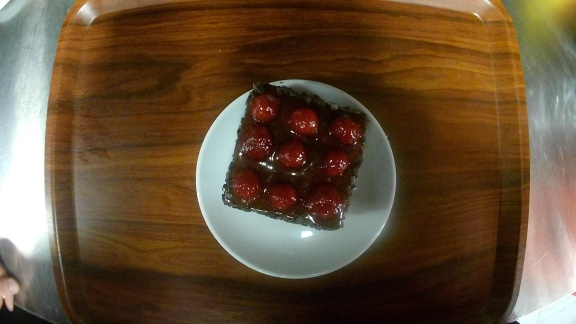cileklipasta: (195, 78, 397, 278)
